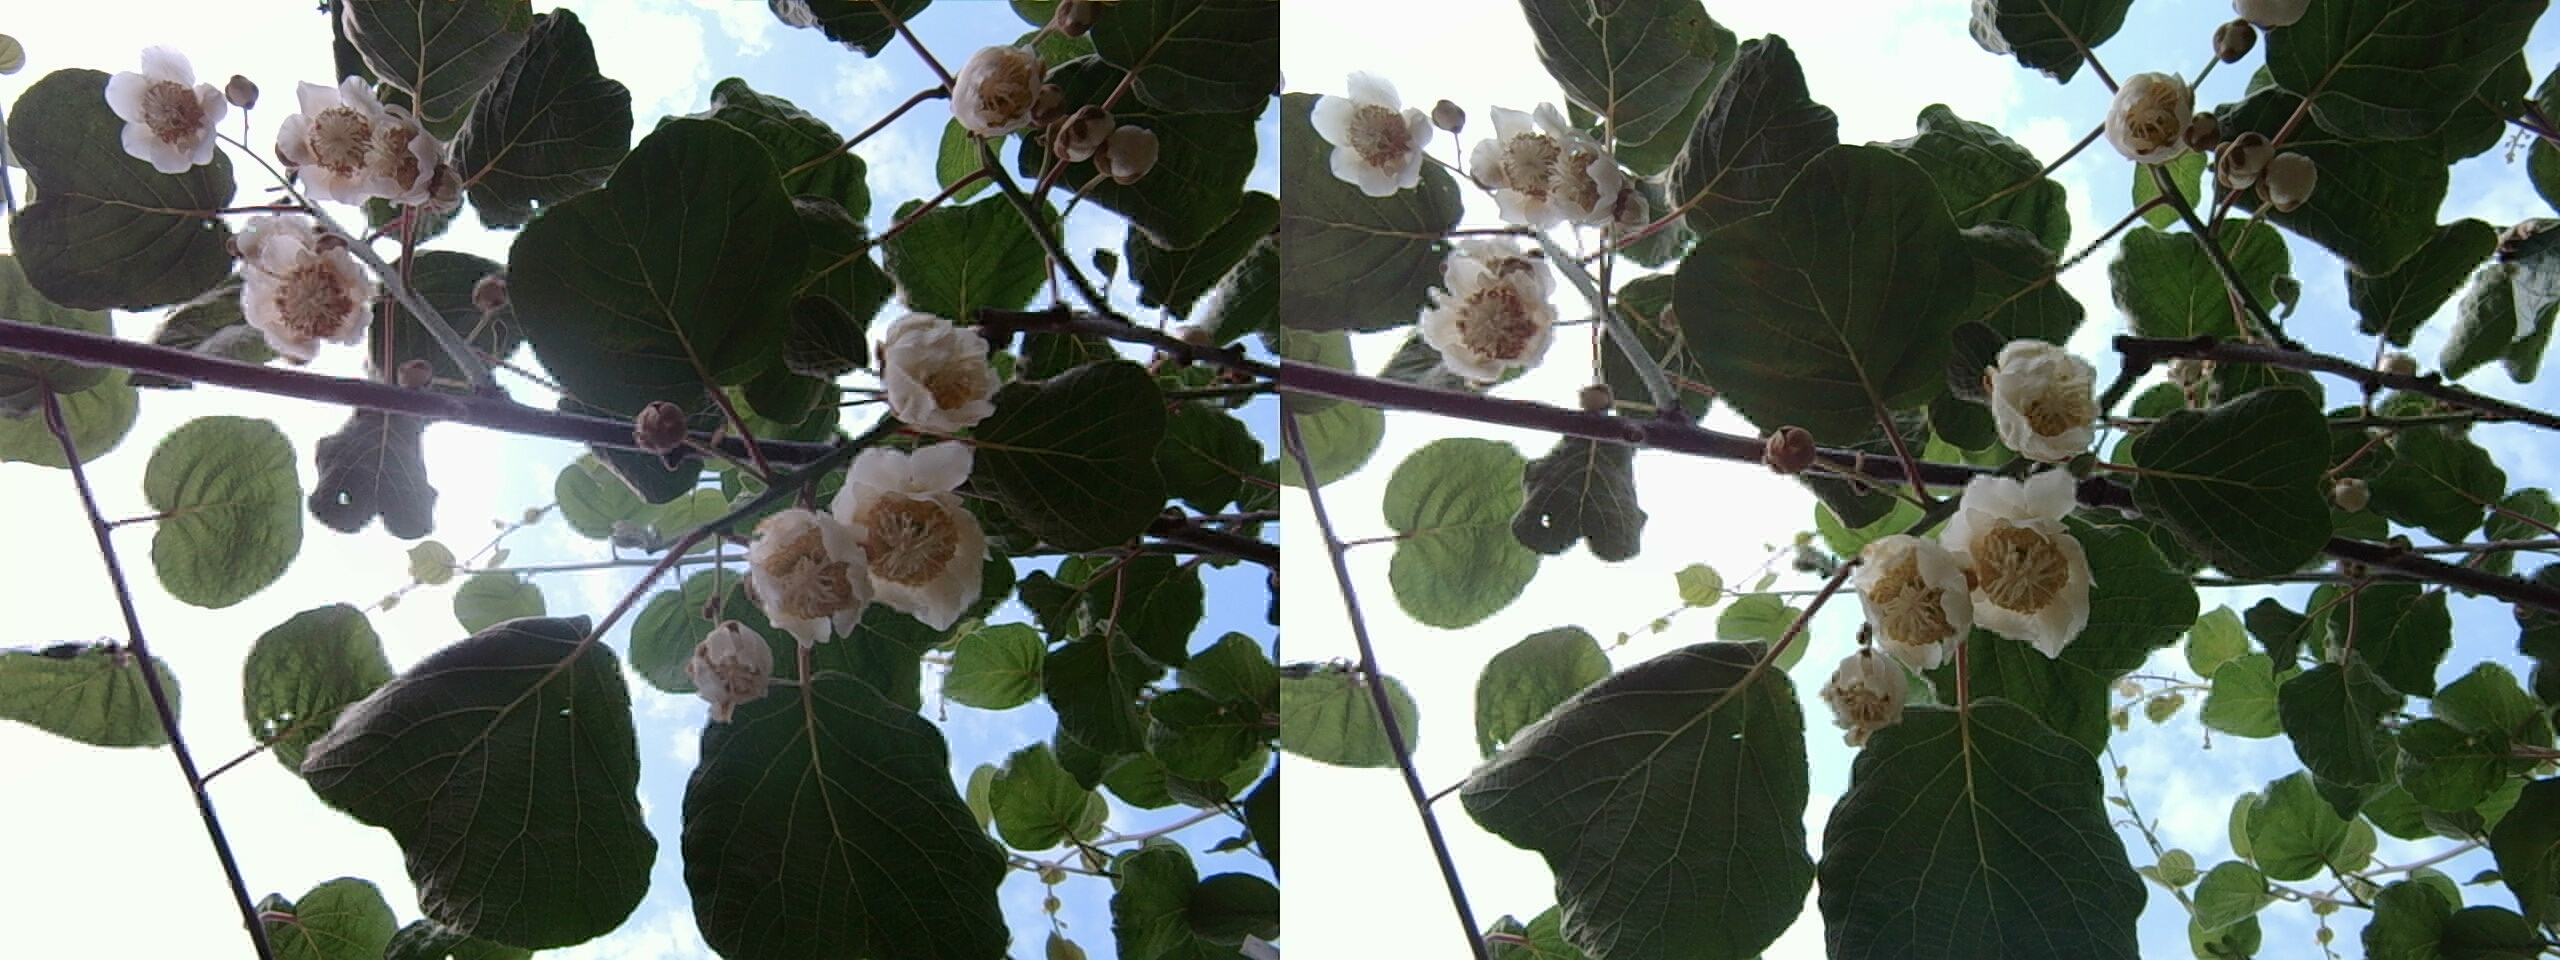flower: (1936, 469, 2098, 658), (828, 447, 989, 630), (264, 78, 456, 232), (216, 216, 385, 358), (1406, 237, 1558, 389), (1833, 531, 1982, 681), (741, 501, 885, 653), (90, 46, 245, 175), (1959, 335, 2100, 464), (1471, 104, 1621, 224), (1304, 78, 1442, 196), (877, 310, 1002, 433), (1814, 643, 1922, 741)
